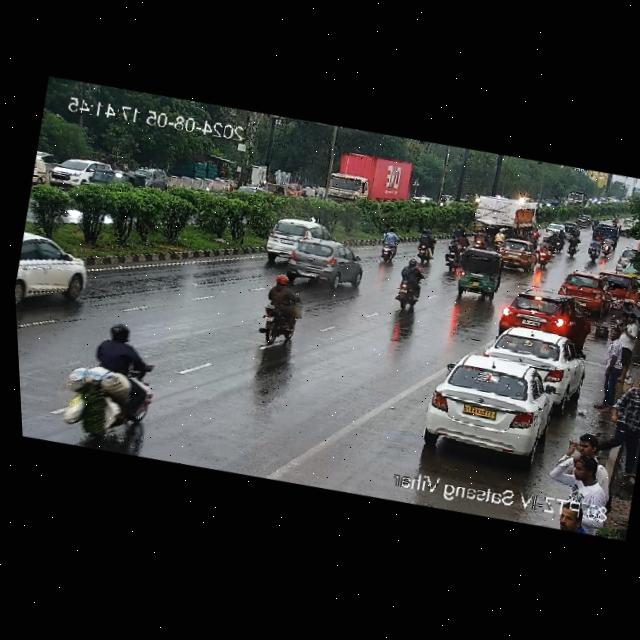car: (419, 344, 567, 468), (483, 318, 590, 401), (12, 225, 98, 321), (281, 229, 371, 292), (494, 287, 582, 345), (259, 211, 339, 266), (449, 244, 506, 300), (41, 148, 106, 196), (556, 267, 615, 312), (86, 161, 148, 191), (491, 236, 536, 274), (598, 266, 631, 299), (137, 161, 170, 194), (613, 245, 640, 273)
motorcycle: (51, 314, 170, 448), (248, 270, 312, 354), (389, 255, 429, 315), (438, 223, 472, 271), (370, 225, 404, 264), (409, 227, 442, 267), (534, 225, 565, 257), (588, 217, 622, 245), (533, 234, 559, 269), (471, 223, 491, 250), (566, 230, 582, 259), (584, 238, 604, 261)
person: (597, 375, 640, 475), (588, 321, 630, 416), (555, 448, 614, 502), (552, 427, 610, 470), (612, 306, 640, 380), (624, 282, 640, 305), (635, 292, 640, 329), (618, 310, 628, 326)
truck: (322, 139, 421, 216), (464, 190, 534, 240)
